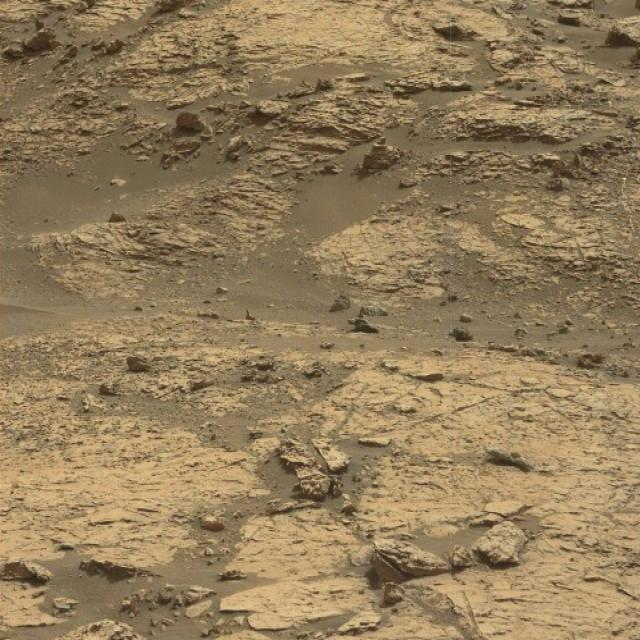rock: (362, 532, 450, 588), (475, 520, 531, 564), (358, 136, 402, 176), (175, 106, 204, 134)
